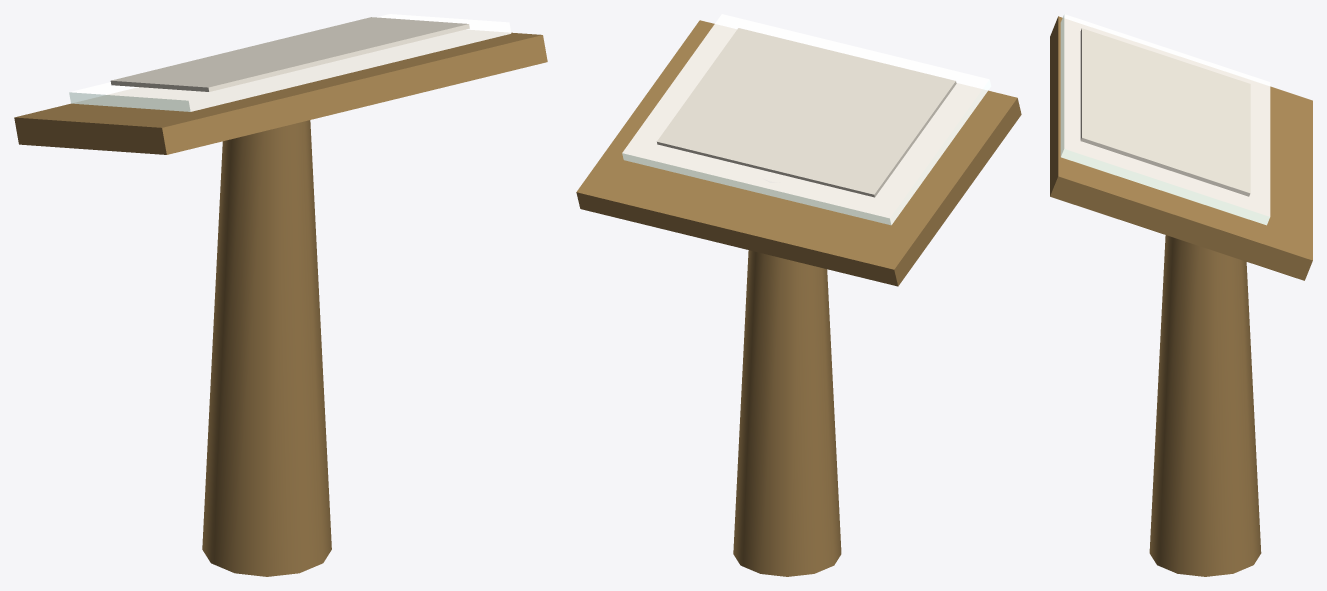
Rendered from carnet.glb.
3 views of the same model, side by side, from view 1: azimuth 30°, elevation 25°; view 2: azimuth 150°, elevation 25°; view 3: azimuth 270°, elevation 25° (orthographic). The views are drawn at different scales.
Visible parts, largest first — view 1: IdentityCarnet; view 2: IdentityCarnet; view 3: IdentityCarnet.
Boxes of the visible parts, bbox=[...] form: IdentityCarnet: bbox=[14, 14, 547, 576]; IdentityCarnet: bbox=[576, 14, 1021, 576]; IdentityCarnet: bbox=[1050, 14, 1312, 576].
Size of the model in its own units: 0.95 by 1.31 by 0.6593.
